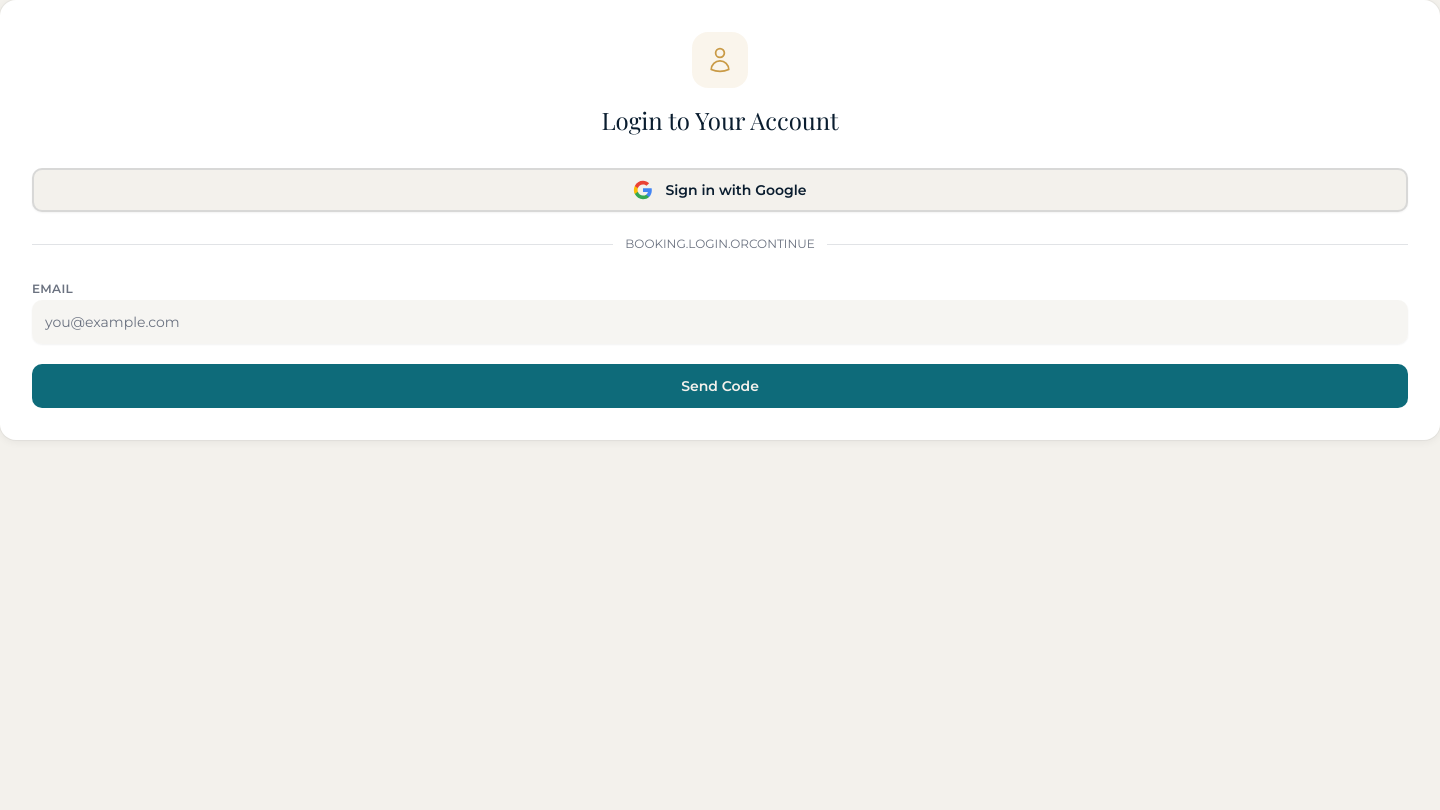
Scenario: LoginForm › shows an error and does not dispatch on an invalid code
Type "demo@quetzal.com" into the field labelled "Email" at (720, 322), box x1=32 y1=300 x2=1408 y2=344
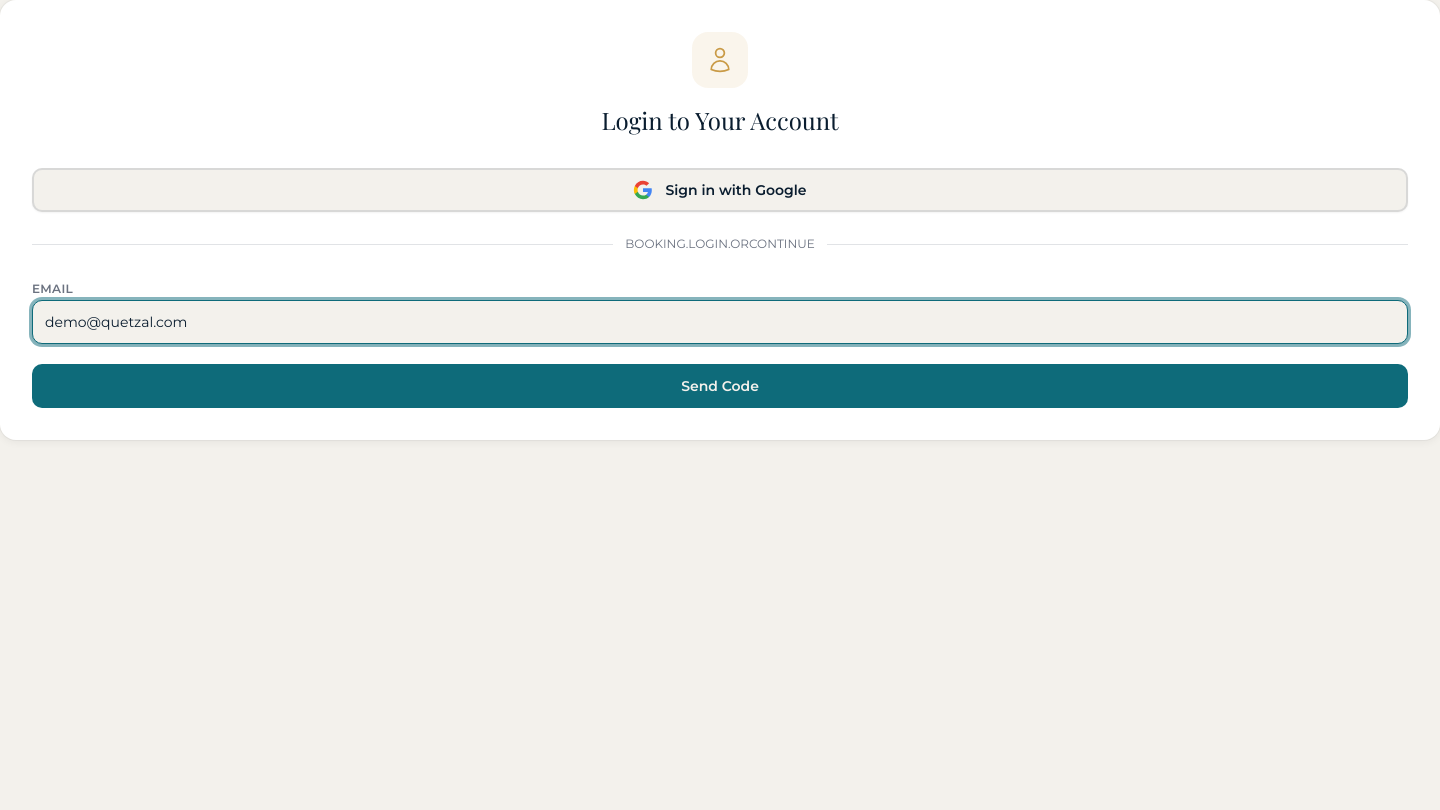
Click the button "Send Code" at (720, 386), box x1=32 y1=364 x2=1408 y2=408
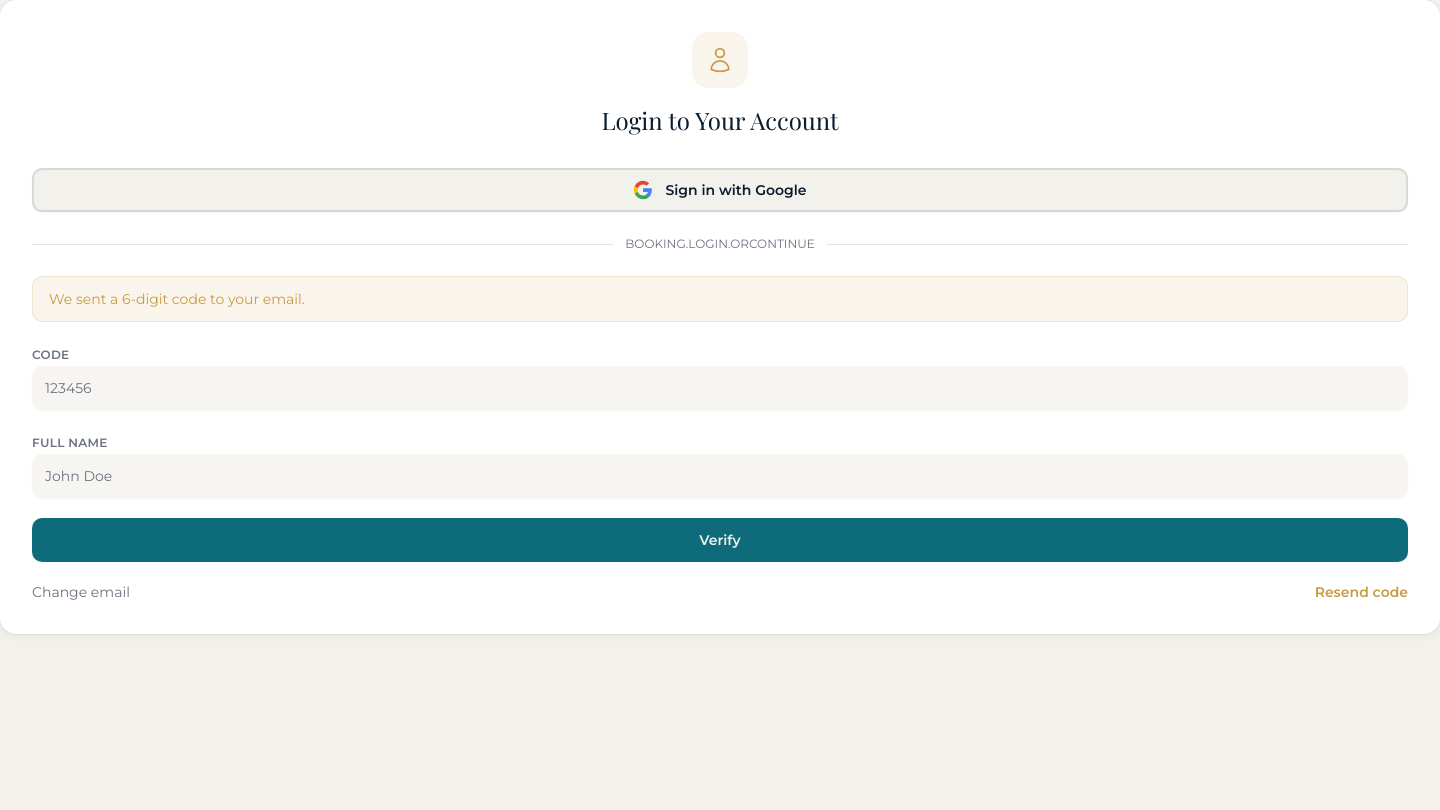
Expected: the field labelled "Code" is shown
Type "000000" into the field labelled "Code" at (720, 388), box x1=32 y1=366 x2=1408 y2=410
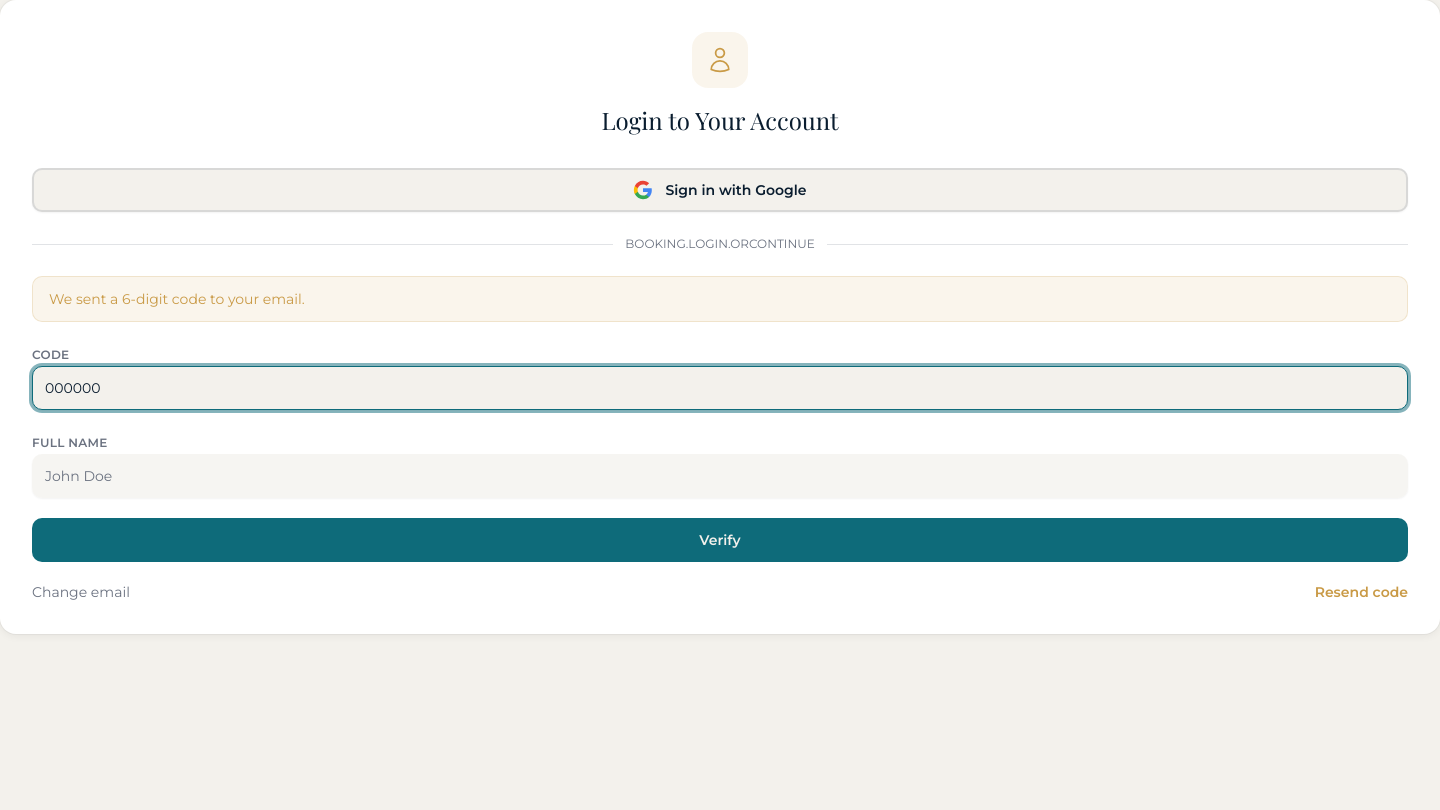
Click the button "Verify" at (720, 540), box x1=32 y1=518 x2=1408 y2=562
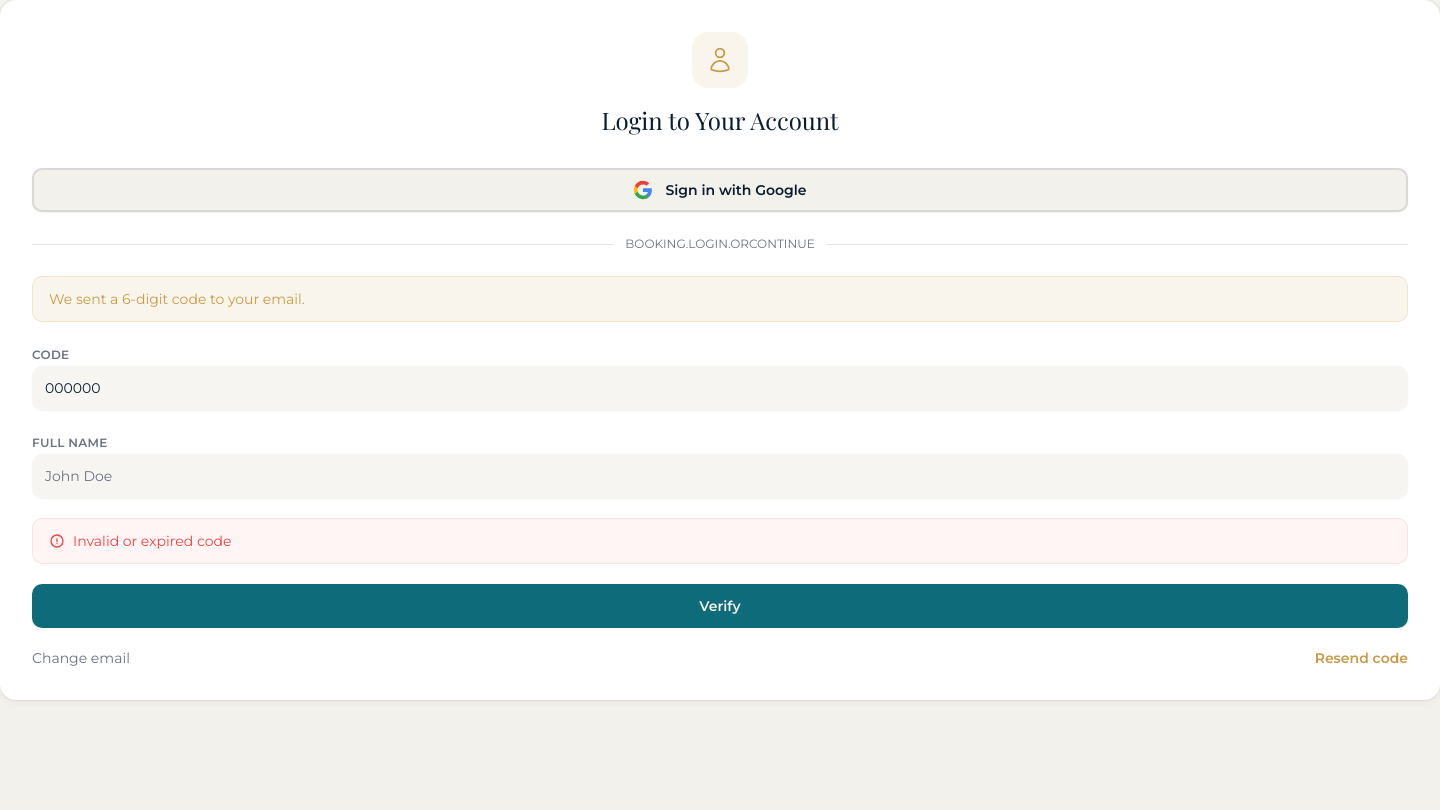
Expected: the text "Invalid or expired code" is shown, x1=73 y1=531 x2=231 y2=551
